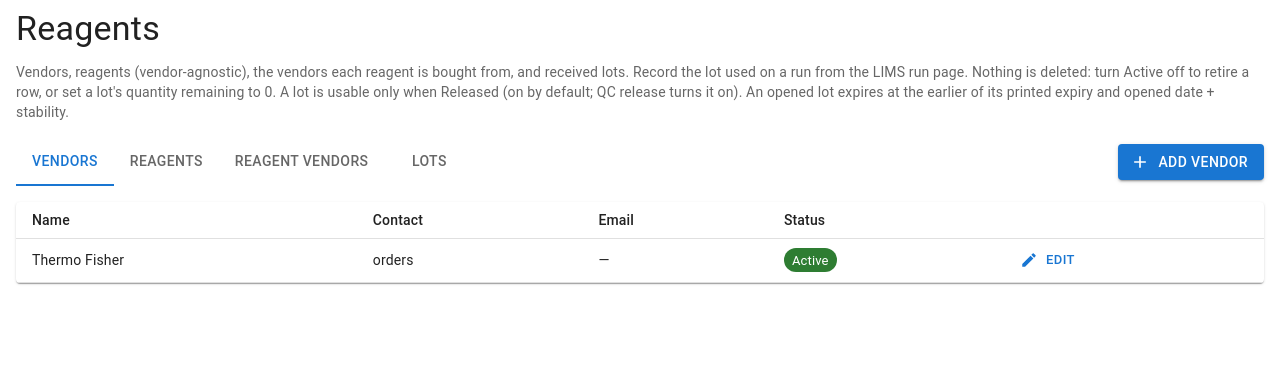
Test: ReagentsManagement › lists vendors, reagents and lots, flags an expired lot, and has no delete
Check: the text "Thermo Fisher" is shown, box [16,238,357,282]
Click the tab "Reagents" at (166, 162), box [114,138,219,186]
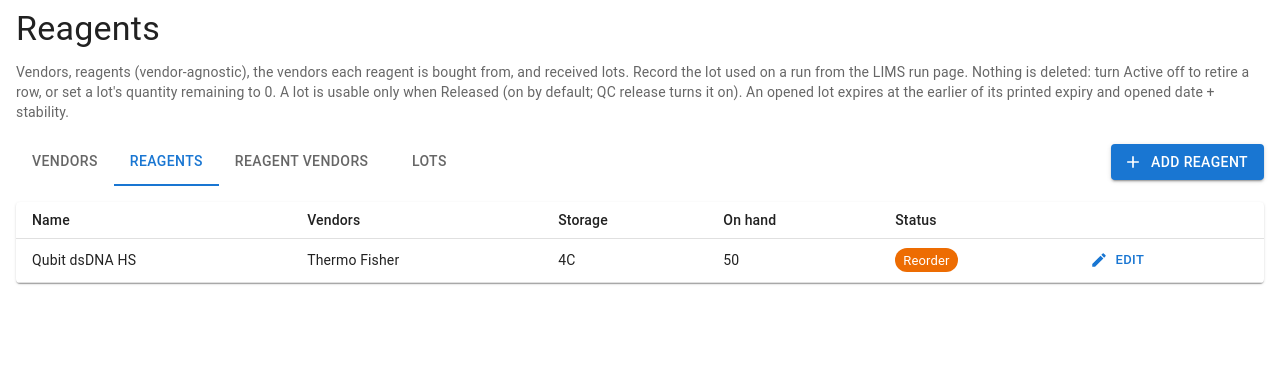
Check: the text "4C" is shown, box [542,238,707,282]
Check: the text "Reorder" is shown, box [903,252,950,268]
Click the tab "Reagent vendors" at (302, 162), box [219,138,384,186]
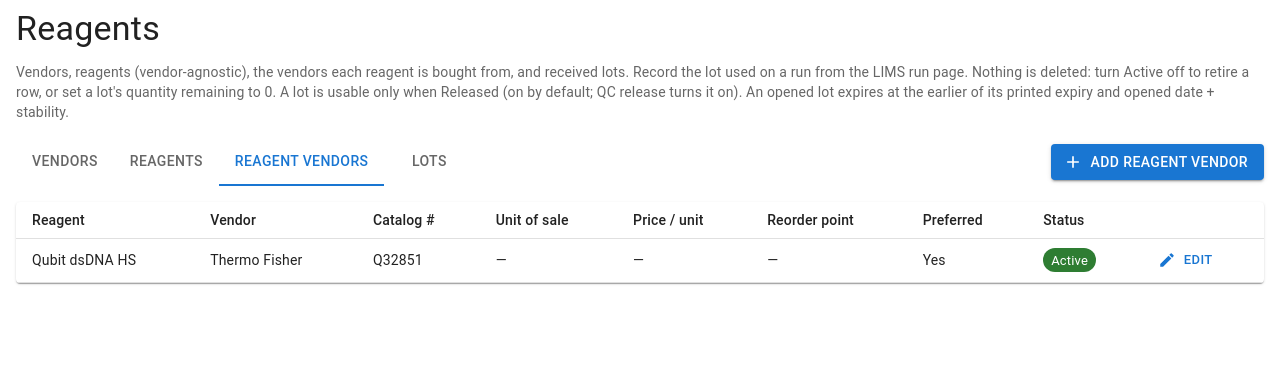
Check: the text "Q32851" is shown, box [357,238,480,282]
Click the tab "Lots" at (429, 162), box [384,138,474,186]
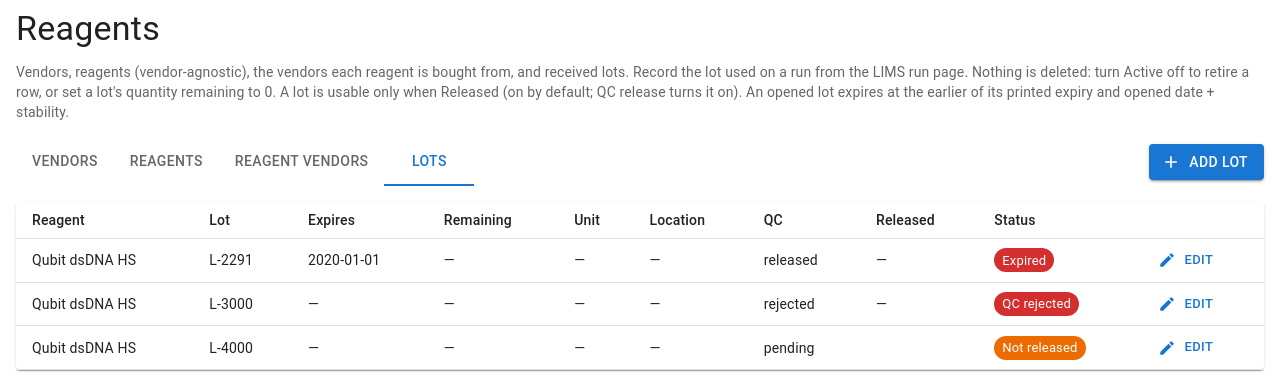
Check: the text "L-2291" is shown, box [193,238,292,282]
Check: the text "Expired" is shown, box [1002,252,1046,268]
Check: the text "QC rejected" is shown, box [1002,296,1071,311]
